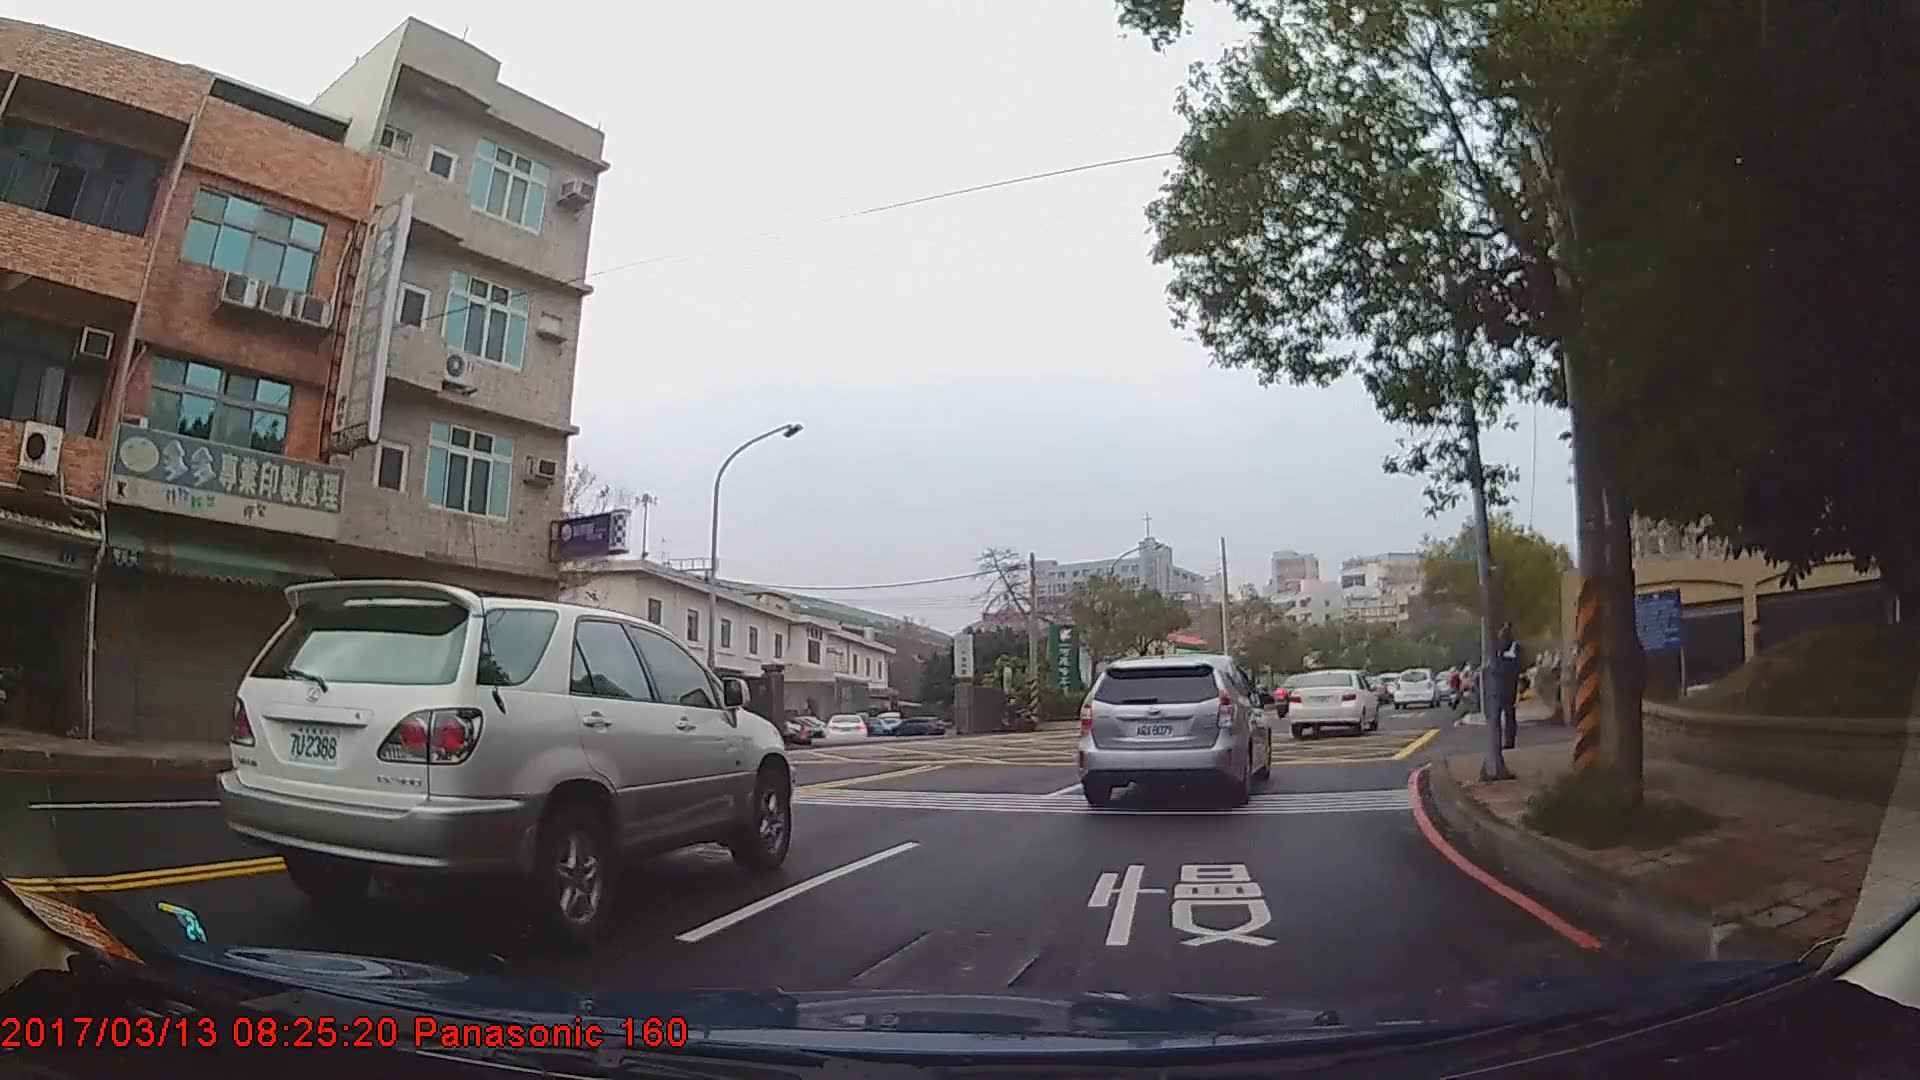pedestrian: (1486, 621, 1528, 751)
vehicle: (215, 578, 793, 942), (1075, 650, 1273, 805), (1284, 668, 1377, 734), (1390, 667, 1441, 710), (887, 716, 947, 738), (824, 713, 869, 742)
